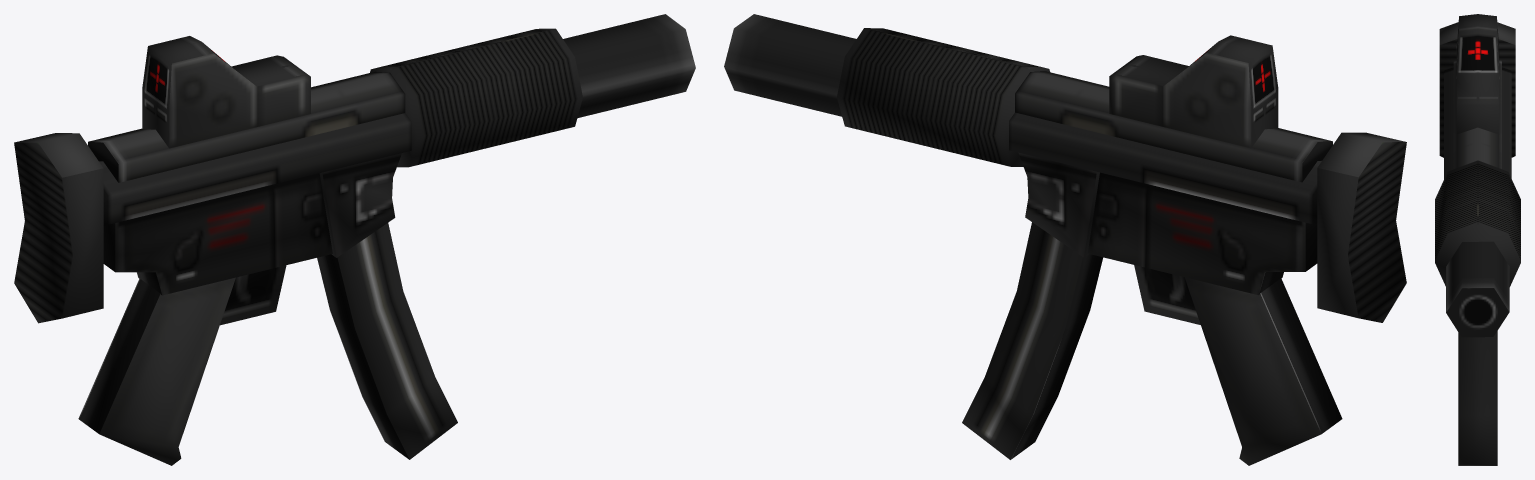
File: smg mp5 lv2.FBX
3 views of the same model, side by side, from view 1: azimuth 30°, elevation 25°; view 2: azimuth 150°, elevation 25°; view 3: azimuth 270°, elevation 25° (orthographic). The views are drawn at different scales.
Parts seen in each view (by area): view 1: Object095; view 2: Object095; view 3: Object095.
Part boxes in pixels (box(x1,y1,x2,y2)): Object095: box(14, 14, 695, 465); Object095: box(724, 14, 1406, 465); Object095: box(1435, 14, 1520, 465).
Size of the model in its own units: 63.75 by 43.65 by 9.42.
